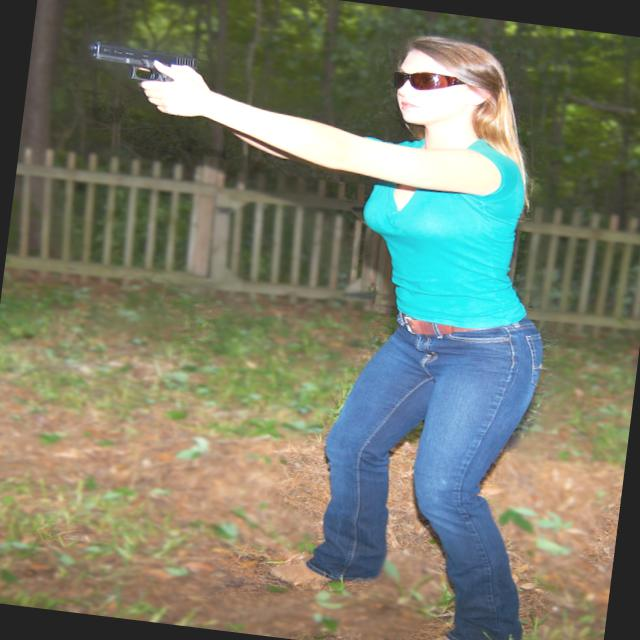handgun: (80, 36, 199, 116)
